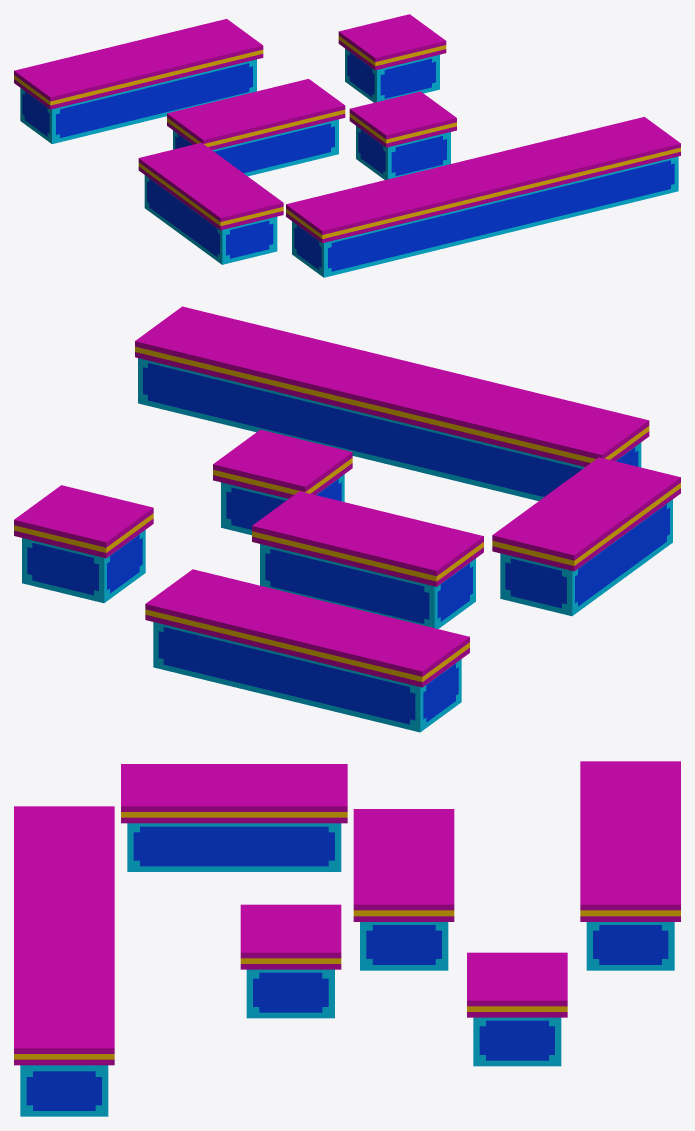
Rendered from level_1.5.obj.
3 renders of one model, top to bottom at view 1: azimuth 30°, elevation 25°; view 2: azimuth 150°, elevation 25°; view 3: azimuth 270°, elevation 25°, orthographic. The views are drawn at different scales.
Size of the model in its own units: 10.8 by 1.2 by 10.6.
Materials: 1 (1 with a texture image).
